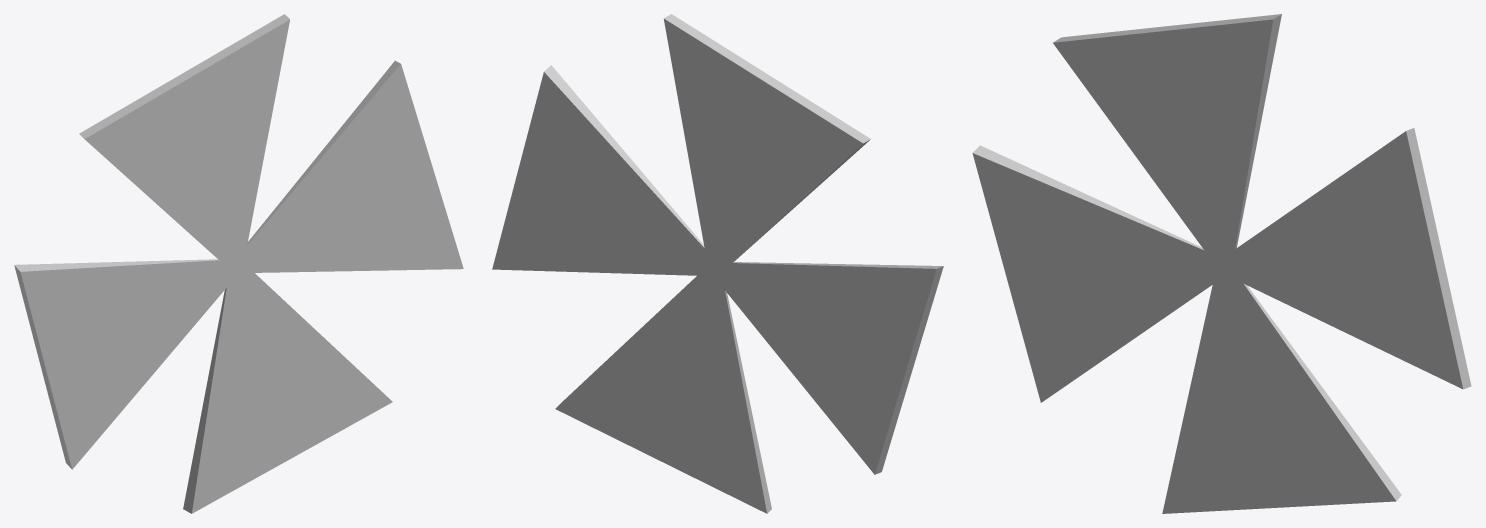
The model's file is prop.glb.
3 renders of one model, left to right at view 1: azimuth 30°, elevation 25°; view 2: azimuth 150°, elevation 25°; view 3: azimuth 330°, elevation 25°, orthographic. The views are drawn at different scales.
Parts seen in each view (by area): view 1: Prop; view 2: Prop; view 3: Prop.
Part boxes in pixels (bbox=[...]): Prop: bbox=[14, 14, 463, 513]; Prop: bbox=[492, 14, 943, 513]; Prop: bbox=[972, 14, 1471, 513].
Bounding box in the file's own units: 1.65 × 1.67 × 0.0792.
Materials: 1 (1 with a texture image).
